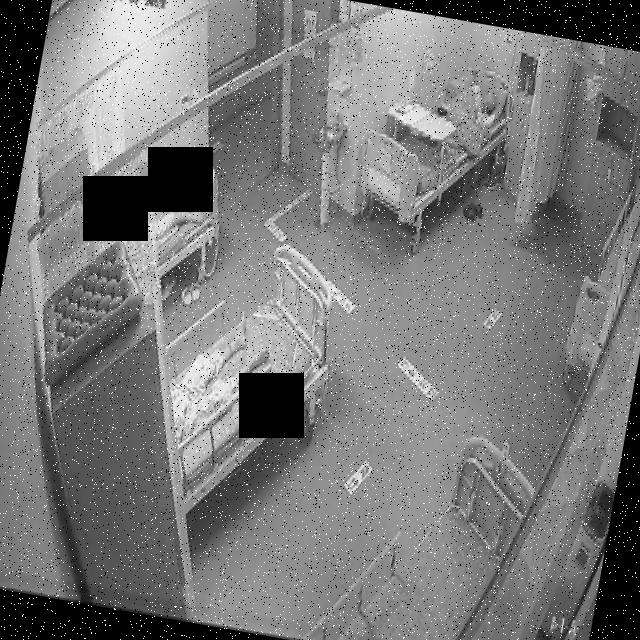bed: (148, 230, 348, 526), (301, 408, 543, 640), (353, 52, 516, 236), (144, 148, 230, 286)
lie: (158, 298, 276, 456), (408, 68, 504, 166)
patient: (160, 299, 276, 456), (460, 77, 502, 133)
